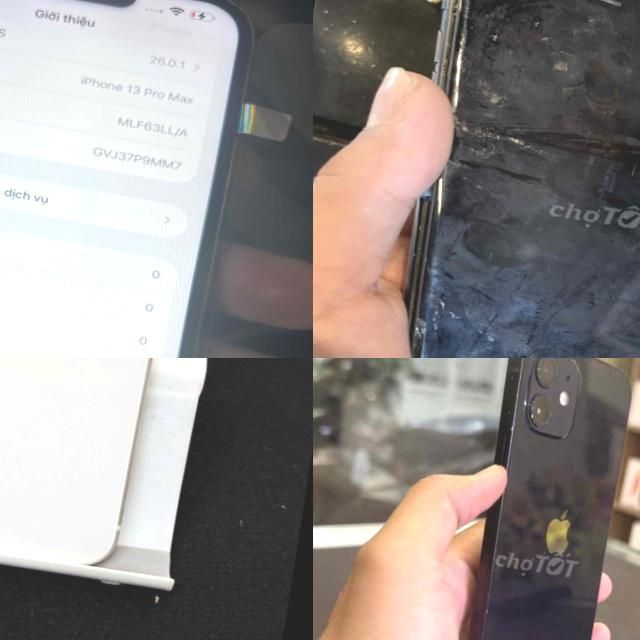gen_12_13: (0, 0, 276, 358), (446, 358, 640, 640), (0, 358, 206, 579)
gen_x_xs: (372, 0, 640, 358)
physical_damage: (423, 0, 491, 94), (401, 295, 498, 358)
scratch: (434, 103, 559, 184), (516, 26, 580, 81), (560, 0, 628, 43), (599, 50, 640, 89)
